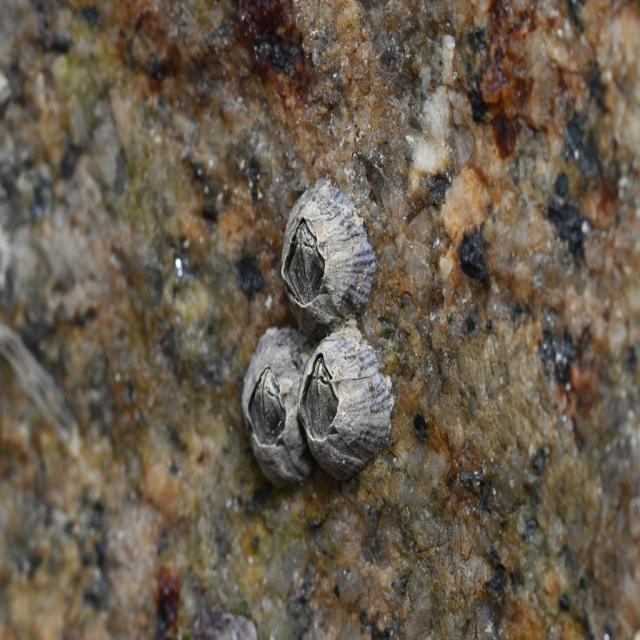barnacles: (274, 176, 383, 323), (301, 334, 398, 484), (236, 323, 306, 489)
